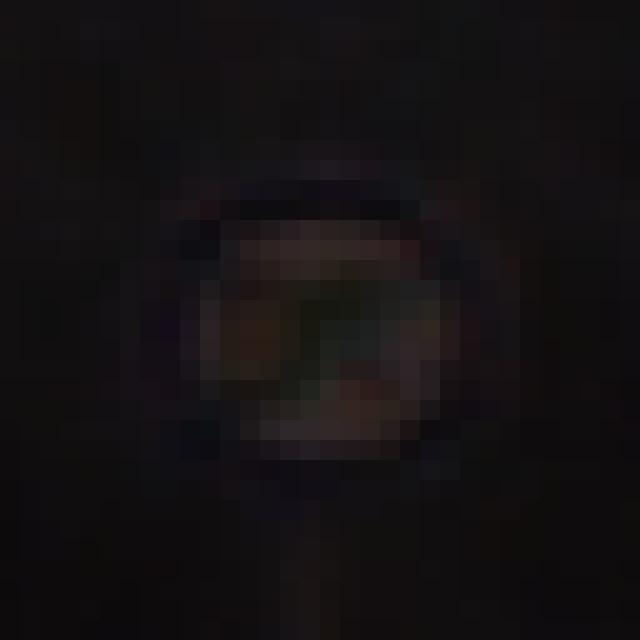SPEED LIMIT 70: (127, 143, 477, 488)
